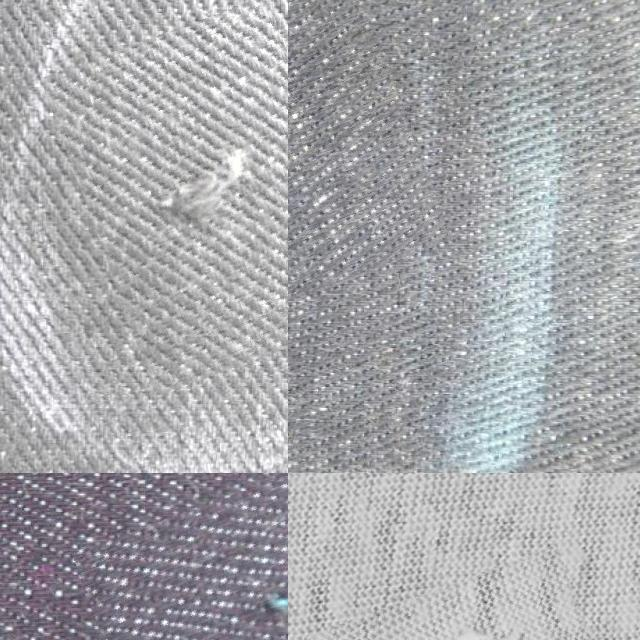other: (313, 566, 605, 640)
stains: (64, 11, 288, 380), (288, 0, 426, 302), (91, 473, 288, 640)
